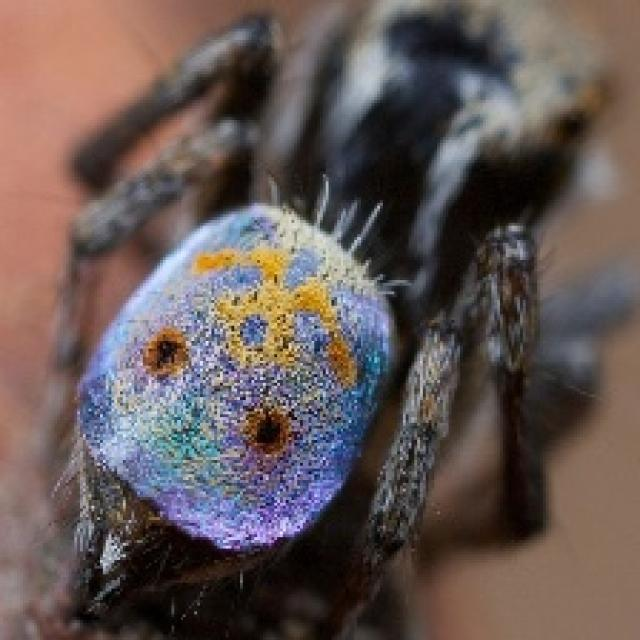Non venomous spider: (3, 6, 640, 613)
